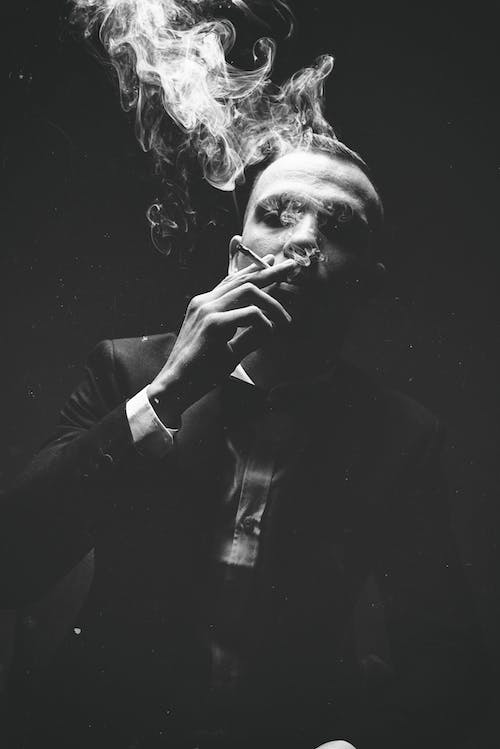cigarette: (234, 241, 274, 272)
